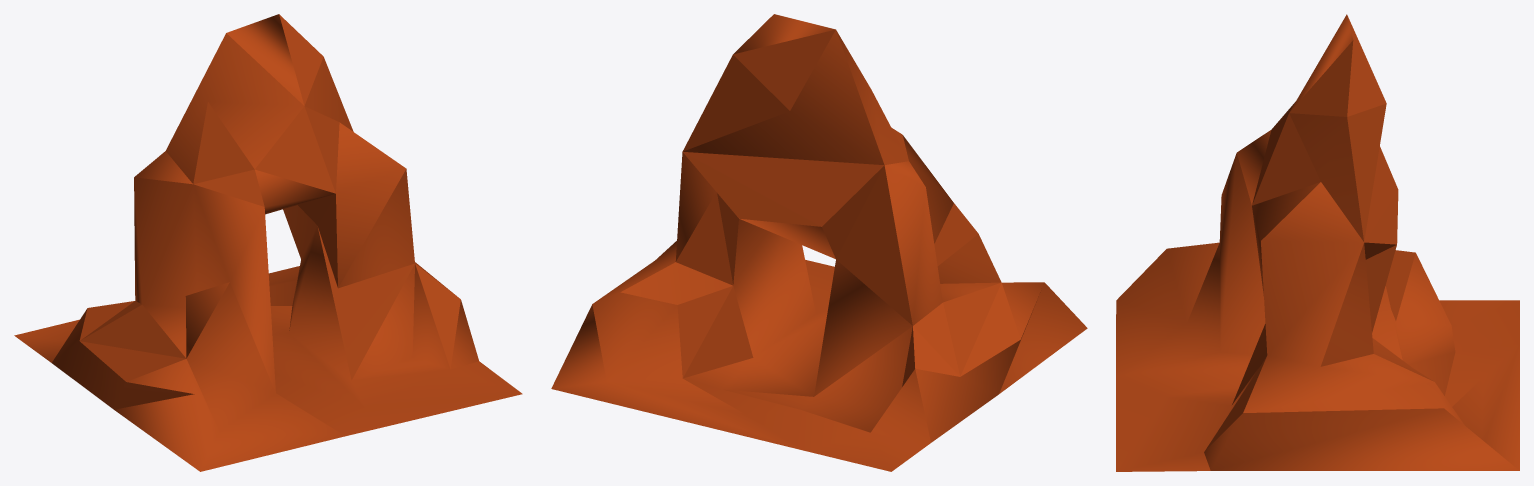
File: Mountain_desert_010.glb
3 renders of one model, left to right at view 1: azimuth 30°, elevation 25°; view 2: azimuth 150°, elevation 25°; view 3: azimuth 270°, elevation 25°, orthographic. The views are drawn at different scales.
Parts seen in each view (by area): view 1: Mountain_desert_010; view 2: Mountain_desert_010; view 3: Mountain_desert_010.
Boxes of the visible parts, left/top/right/bottom form: Mountain_desert_010: left=14, top=14, right=522, bottom=471; Mountain_desert_010: left=551, top=14, right=1087, bottom=471; Mountain_desert_010: left=1116, top=14, right=1519, bottom=471.
Bounding box in the file's own units: 23.36 × 22.67 × 23.
Materials: 1 (1 with a texture image).
